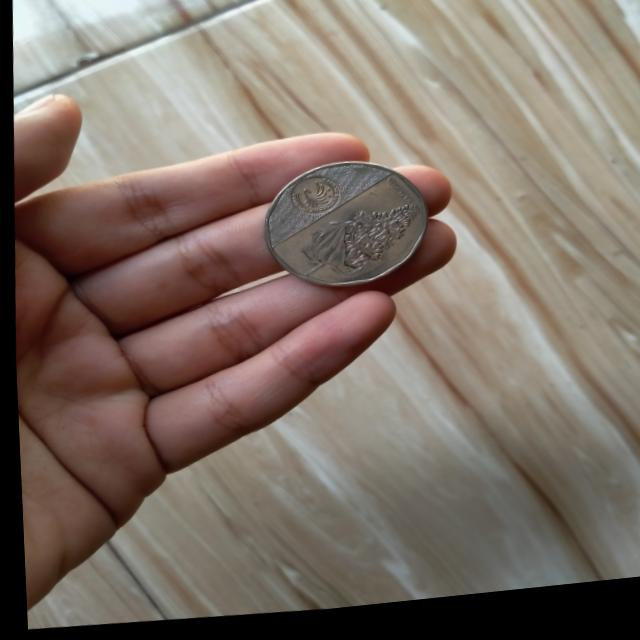10_New_Back: (292, 201, 417, 291)
